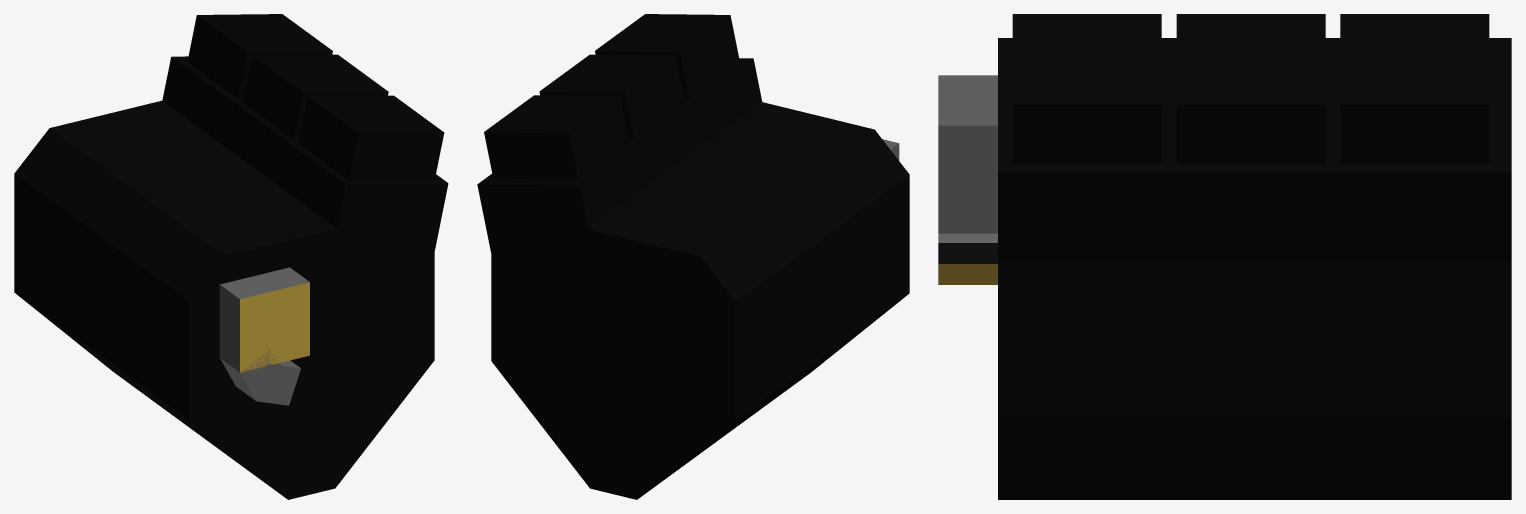
File: v3insolvoturbo.obj
The picture shows the model from 3 angles, left to right: view 1: azimuth 30°, elevation 25°; view 2: azimuth 150°, elevation 25°; view 3: azimuth 270°, elevation 25°; orthographic projection. The views are drawn at different scales.
Visible parts, largest first — view 1: cube, turbo; view 2: cube; view 3: cube, turbo.
Boxes of the visible parts, x1,y1,x2,y2 form: cube: [14, 14, 448, 499]; turbo: [219, 267, 309, 405]; cube: [477, 14, 909, 499]; cube: [998, 14, 1511, 499]; turbo: [938, 75, 997, 284].
Bounding box in the file's own units: 0.4359 × 0.5508 × 0.565.
